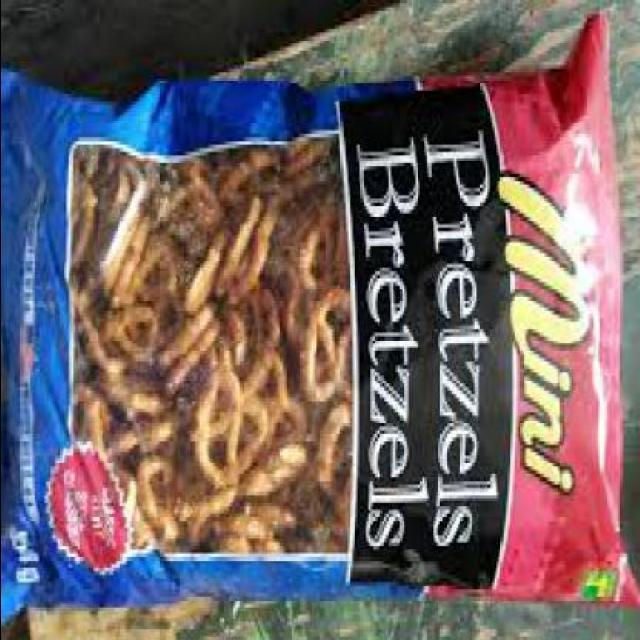Salatini: (2, 22, 636, 636)
